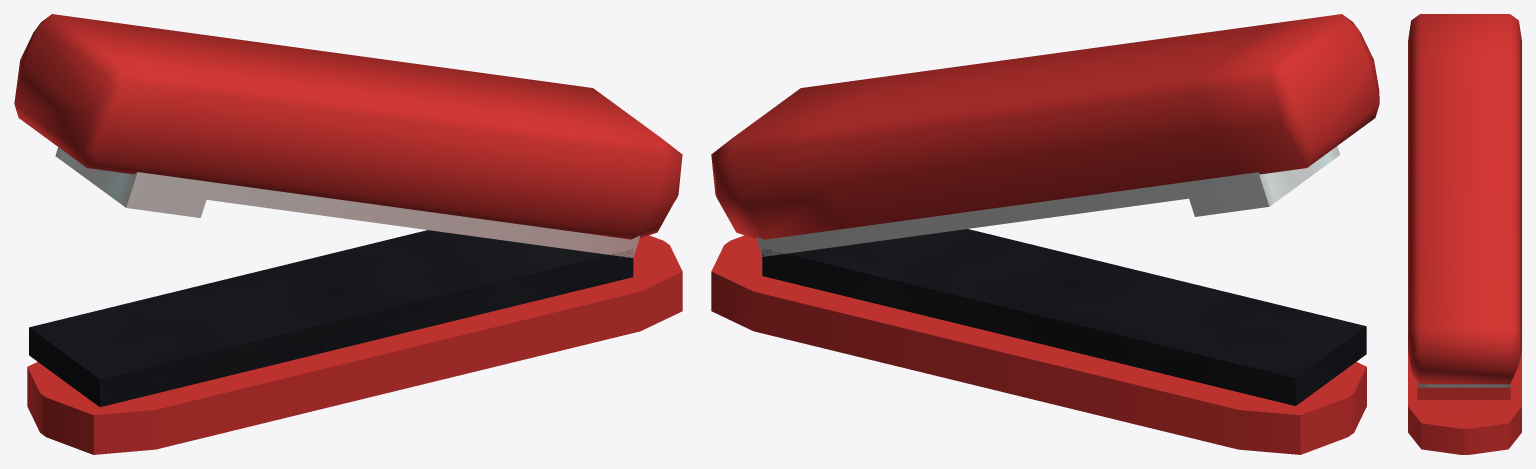
File: Stapler.FBX
3 views of the same model, side by side, from view 1: azimuth 30°, elevation 25°; view 2: azimuth 150°, elevation 25°; view 3: azimuth 270°, elevation 25° (orthographic). The views are drawn at different scales.
Parts seen in each view (by area): view 1: Stapler; view 2: Stapler; view 3: Stapler.
Part boxes in pixels (x1,y1,x2,y2): Stapler: (14,14,682,454); Stapler: (711,14,1379,454); Stapler: (1408,14,1521,454).
Size of the model in its own units: 13.02 by 7.68 by 3.12.
